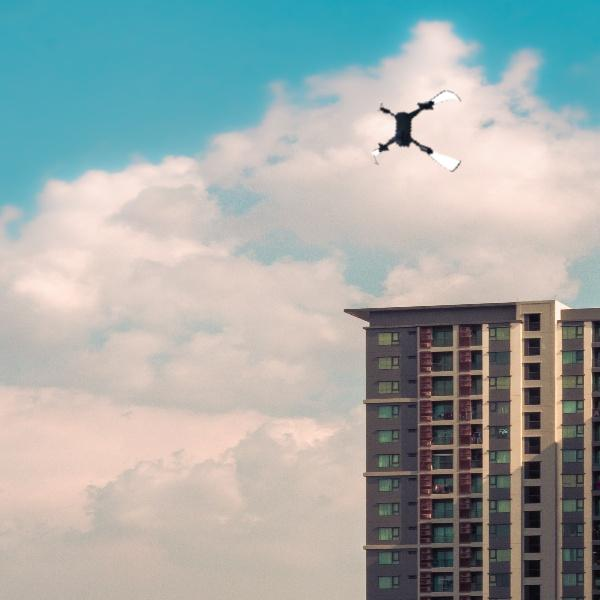drone: (369, 77, 474, 182)
